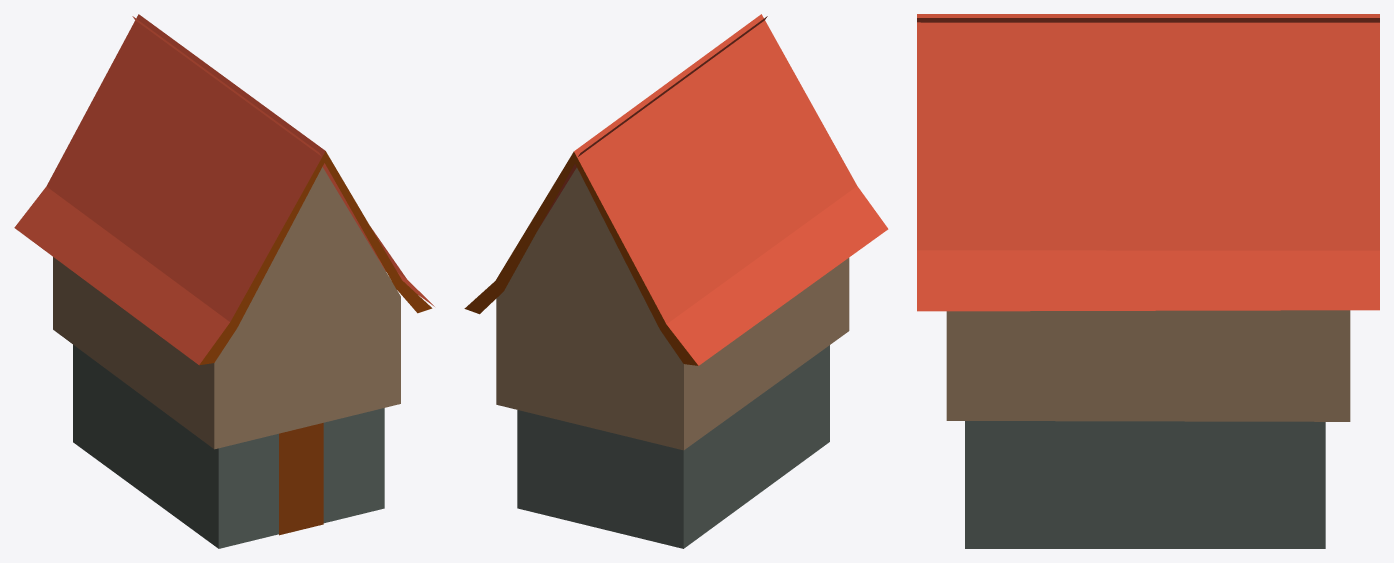
3 views of the same model, side by side, from view 1: azimuth 30°, elevation 25°; view 2: azimuth 150°, elevation 25°; view 3: azimuth 270°, elevation 25° (orthographic). The views are drawn at different scales.
Visible parts, largest first — view 1: h16; view 2: h16; view 3: h16.
Part boxes in pixels (bbox=[...]): h16: bbox=[14, 14, 434, 548]; h16: bbox=[464, 14, 888, 548]; h16: bbox=[917, 14, 1379, 548].
Size of the model in its own units: 0.255 by 0.4026 by 0.3492.
1 material, 1 textured.
